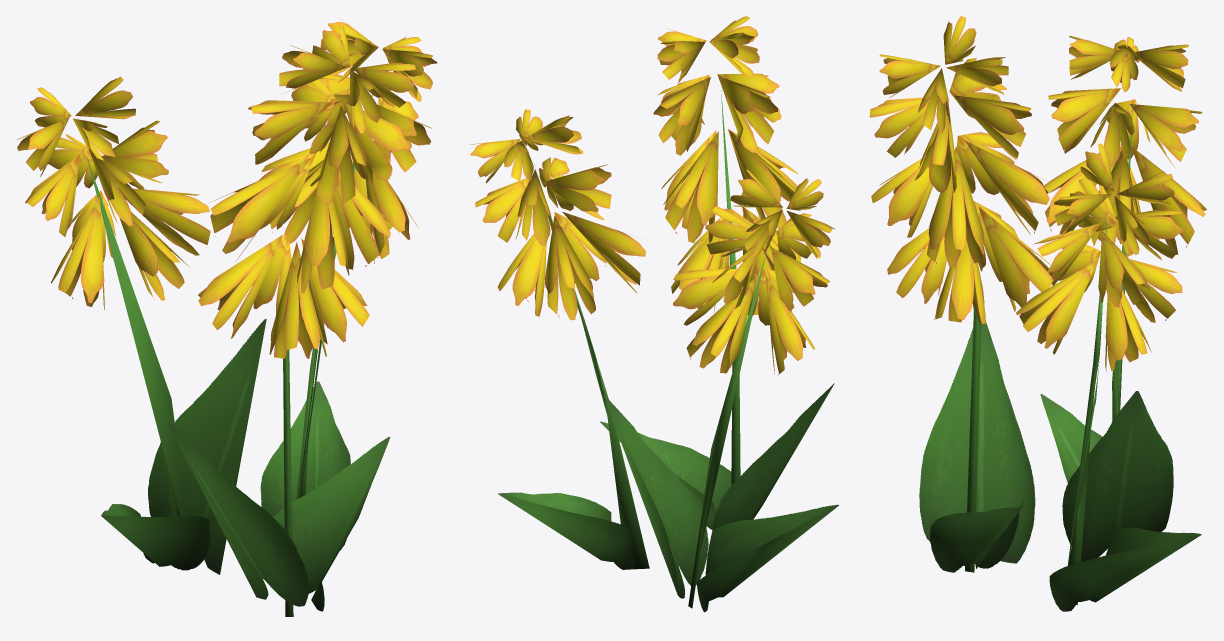
The model's file is bunga-2.glb.
3 renders of one model, left to right at view 1: azimuth 30°, elevation 25°; view 2: azimuth 150°, elevation 25°; view 3: azimuth 270°, elevation 25°, orthographic. The views are drawn at different scales.
Visible parts, largest first — view 1: Flower_4_Group; view 2: Flower_4_Group; view 3: Flower_4_Group.
Boxes of the visible parts, left/top/right/bottom form: Flower_4_Group: left=17, top=18, right=437, bottom=616; Flower_4_Group: left=469, top=16, right=838, bottom=612; Flower_4_Group: left=869, top=16, right=1206, bottom=611.
Bounding box in the file's own units: 0.5033 × 0.6956 × 0.3782.
Materials: 2 (2 with a texture image).
